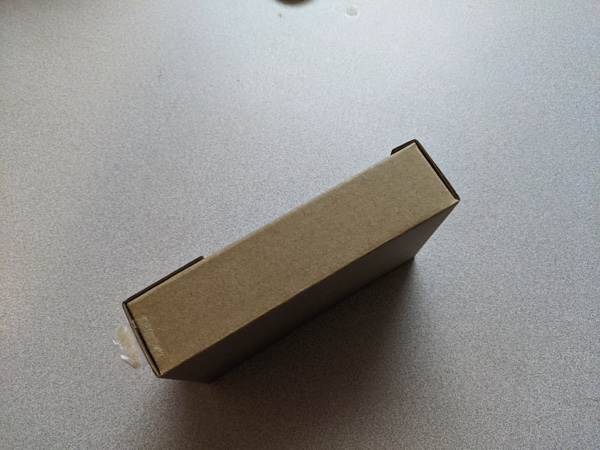cardboard: (92, 126, 486, 405)
